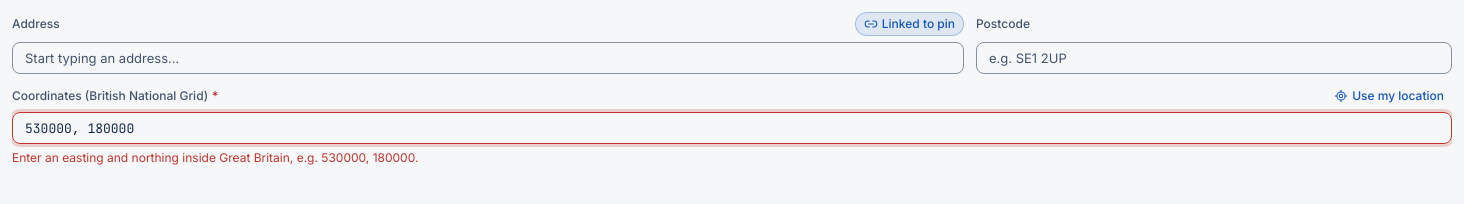
Test: postcode field hints (-8) › warns, but does not block, when postcodes.io has never heard of a well-formed postcode
Step 1. Type "SW1A 0ZZ" into the field labelled "Postcode" → {"x": 1214, "y": 58}, box [976,42,1452,74]
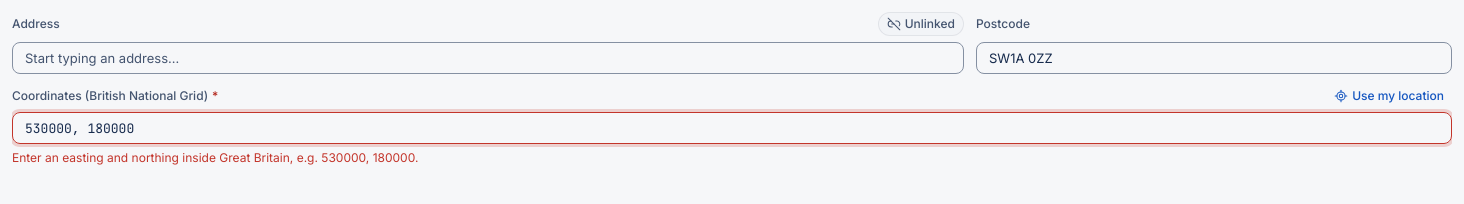
Step 2. Leave the field labelled "Postcode", box [976,42,1452,74]
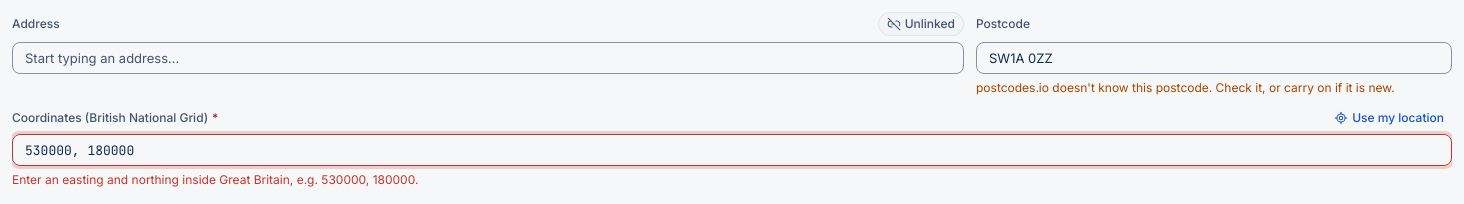
expect the text "postcodes.io doesn't know this postcode" is shown: met, box [976,80,1395,95]
